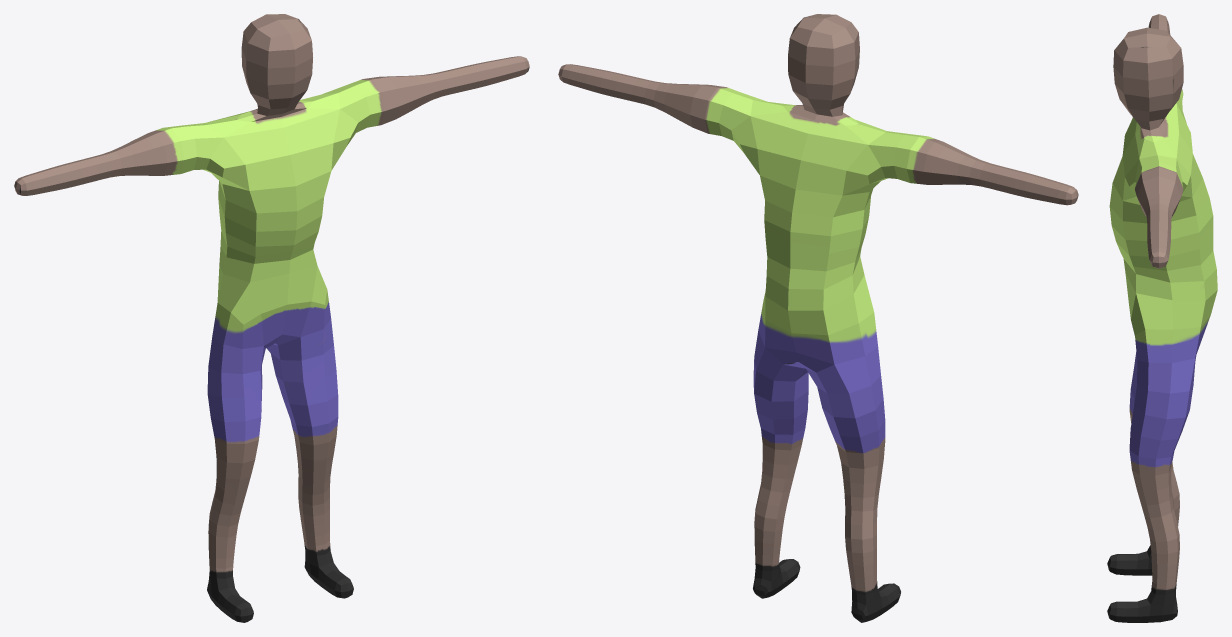
File: Player_Character.fbx
The picture shows the model from 3 angles, left to right: view 1: azimuth 30°, elevation 25°; view 2: azimuth 150°, elevation 25°; view 3: azimuth 270°, elevation 25°; orthographic projection. The views are drawn at different scales.
Parts seen in each view (by area): view 1: Model; view 2: Model; view 3: Model.
Part boxes in pixels (x1,y1,x2,y2): Model: (14, 14, 529, 622); Model: (558, 14, 1078, 622); Model: (1107, 14, 1217, 622).
Bounding box in the file's own units: 375 × 406 × 71.89.
